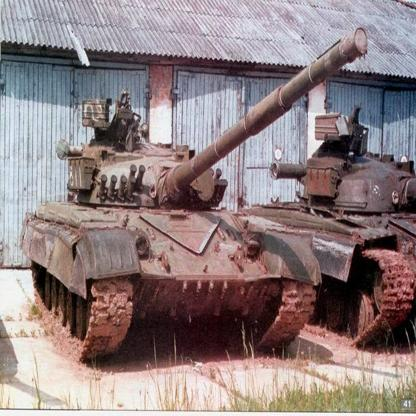Tank: (26, 27, 365, 370), (234, 100, 416, 357)
